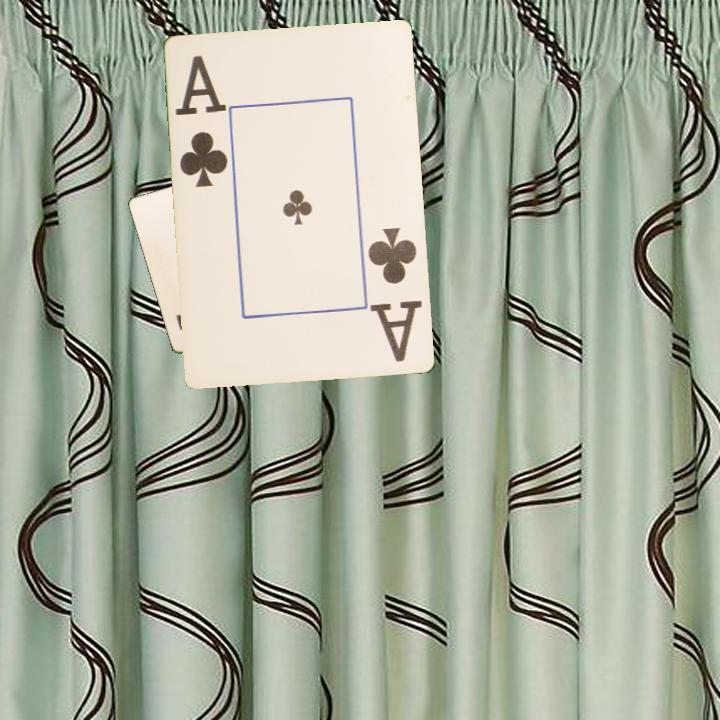Ac: (365, 224, 426, 365), (172, 52, 232, 191)
